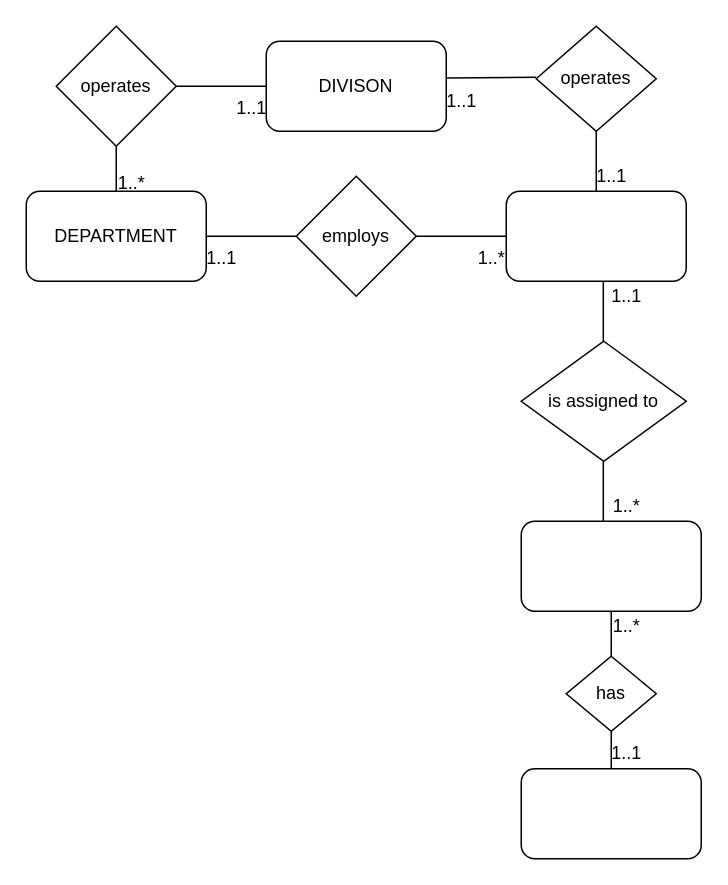
Some shapes in this 728 by 885 pixel diagram are drawn without their labels. Each missing label, with the centre of its shape:
ASSIGNMENT: (x=610, y=565)
EMPLOYEE: (x=595, y=235)
PROJECT: (x=610, y=813)
